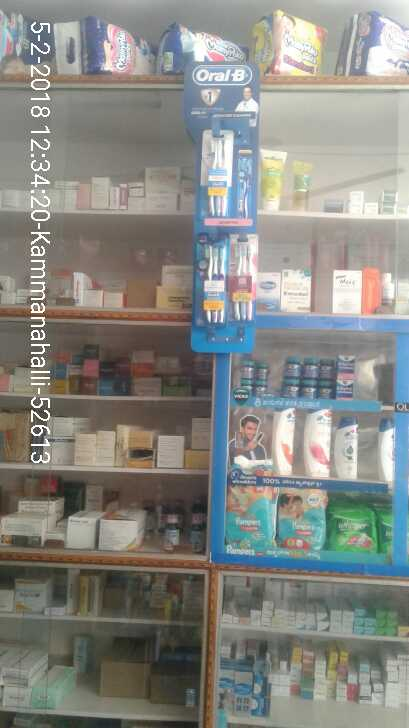beauty: (265, 397, 299, 489), (304, 399, 332, 484), (332, 408, 357, 472)
pharmacy: (282, 348, 360, 404), (276, 487, 326, 547), (226, 487, 274, 548), (330, 501, 385, 554), (205, 122, 229, 226), (200, 240, 229, 323), (234, 236, 259, 322), (240, 352, 273, 397)
